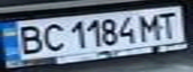1: (66, 18, 87, 50), (84, 17, 103, 47)
4: (115, 14, 139, 44)
8: (100, 16, 121, 46)
B: (12, 22, 48, 56)
C: (39, 20, 66, 53)
M: (136, 10, 166, 42)
T: (151, 9, 184, 39)
